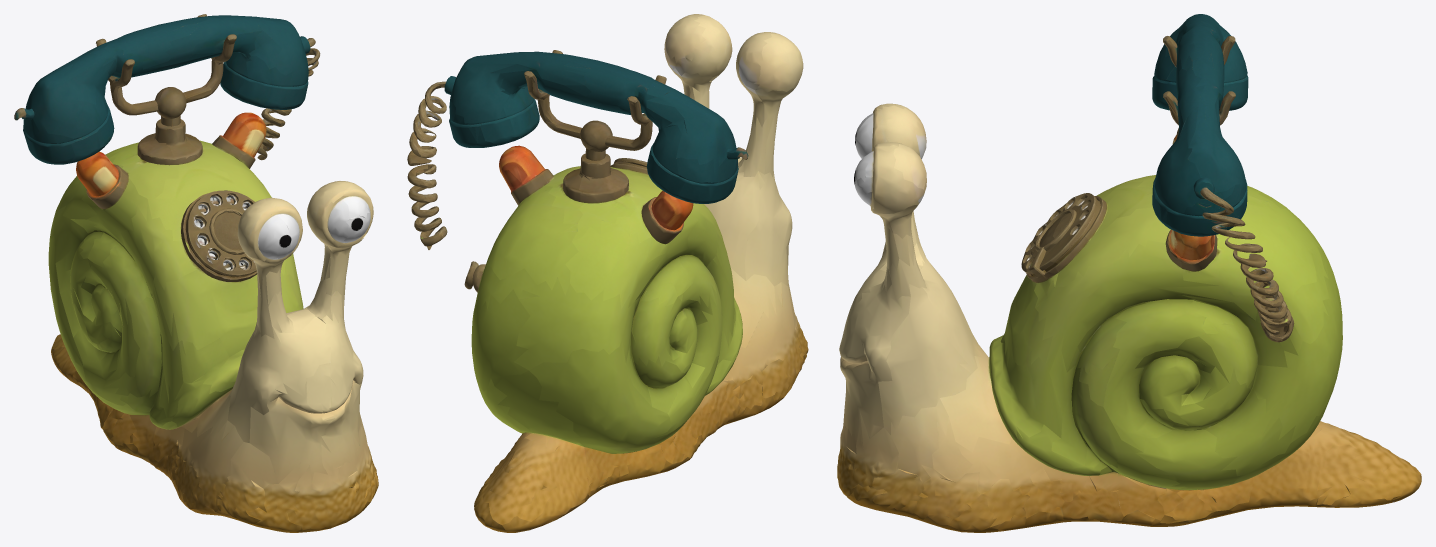
File: den-den-mushi.glb
3 views of the same model, side by side, from view 1: azimuth 30°, elevation 25°; view 2: azimuth 150°, elevation 25°; view 3: azimuth 270°, elevation 25° (orthographic). The views are drawn at different scales.
Size of the model in its own units: 1.31 by 1.58 by 1.9.
1 material, 1 textured.
